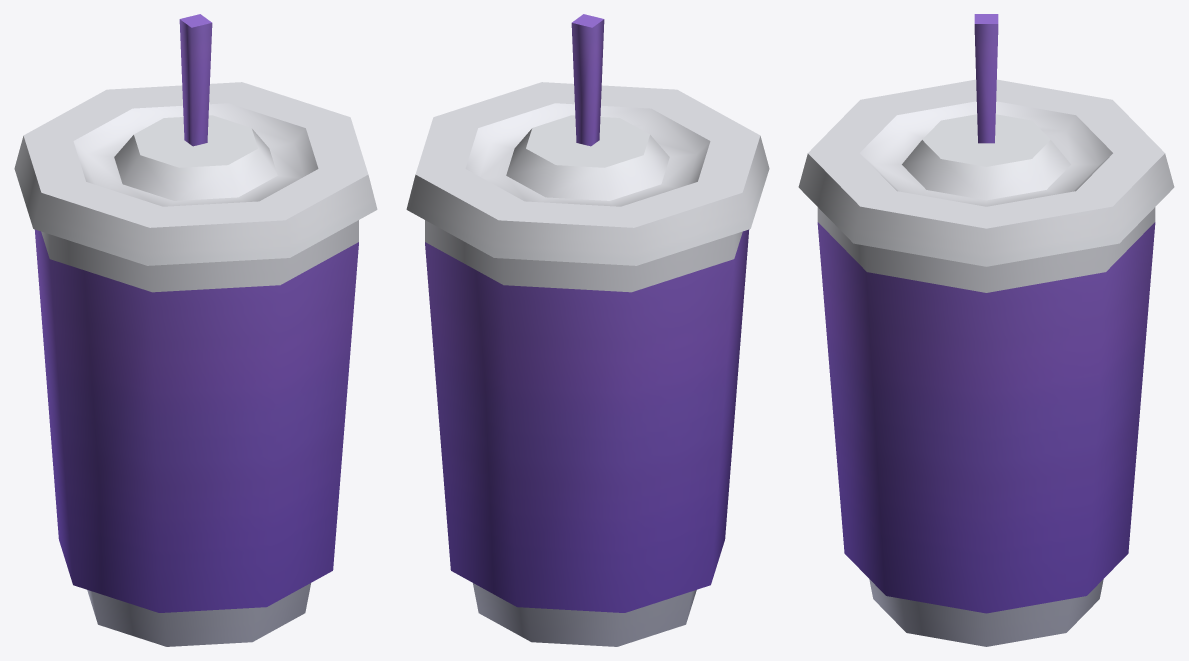
File: kenney-food-soda.glb
3 renders of one model, left to right at view 1: azimuth 30°, elevation 25°; view 2: azimuth 150°, elevation 25°; view 3: azimuth 270°, elevation 25°, orthographic.
Visible parts, largest first — view 1: soda; view 2: soda; view 3: soda.
Part boxes in pixels (left/top/right/bottom): soda: left=14, top=14, right=377, bottom=646; soda: left=406, top=14, right=769, bottom=646; soda: left=798, top=14, right=1174, bottom=646.
Bounding box in the file's own units: 0.2541 × 0.4324 × 0.2541.
Materials: 1 (1 with a texture image).
